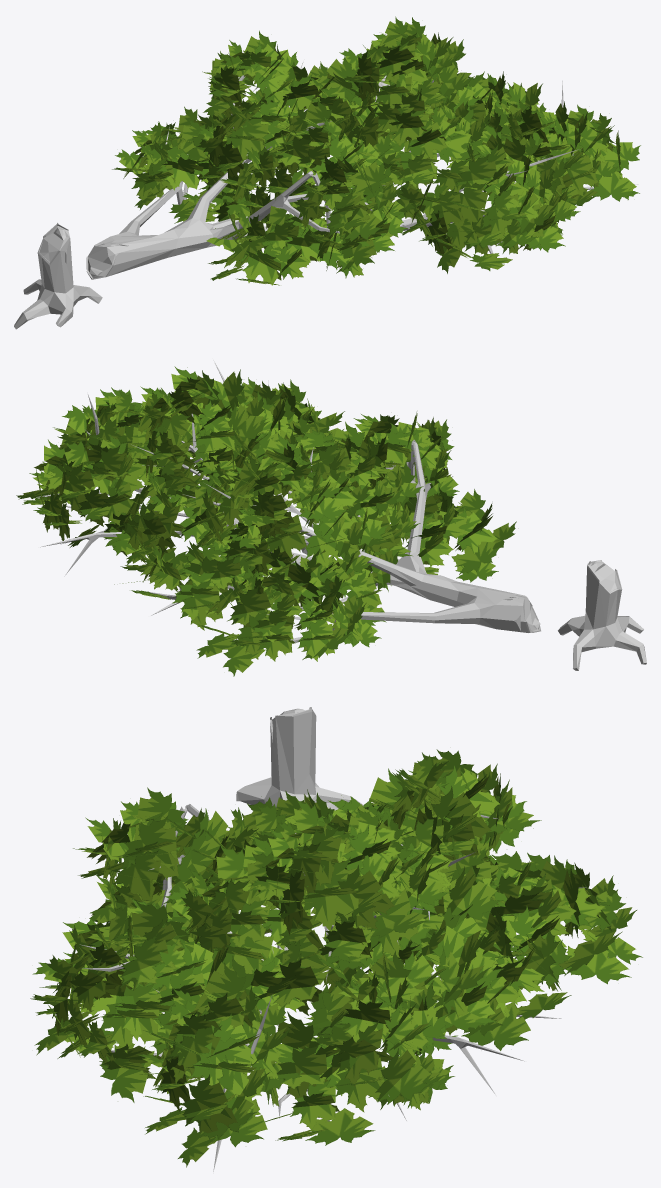
The model's file is SM_Maple_Chopped.fbx.
The picture shows the model from 3 angles, top to bottom: view 1: azimuth 30°, elevation 25°; view 2: azimuth 150°, elevation 25°; view 3: azimuth 270°, elevation 25°; orthographic projection. The views are drawn at different scales.
Visible parts, largest first — view 1: SM_Maple_Chopped; view 2: SM_Maple_Chopped; view 3: SM_Maple_Chopped.
Boxes of the visible parts, x1,y1,x2,y2 form: SM_Maple_Chopped: (14, 16, 640, 329); SM_Maple_Chopped: (16, 360, 646, 676); SM_Maple_Chopped: (30, 707, 642, 1171).
Bounding box in the file's own units: 976 × 298 × 643.
